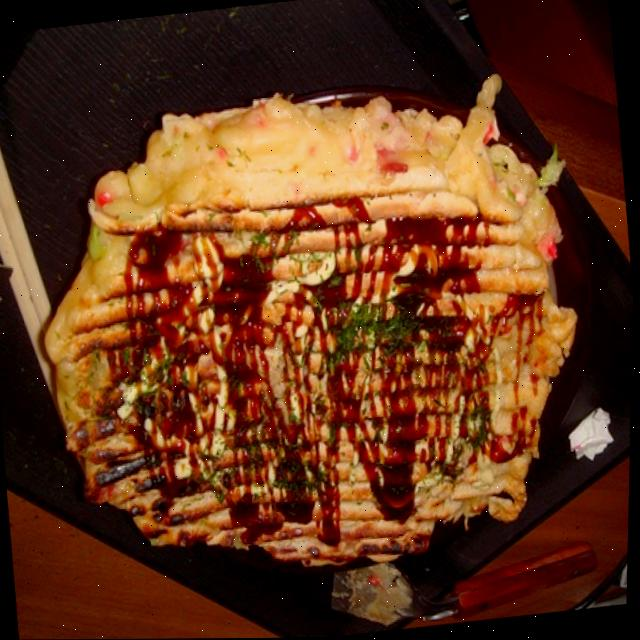蛋糕甜品: (20, 66, 604, 604)
